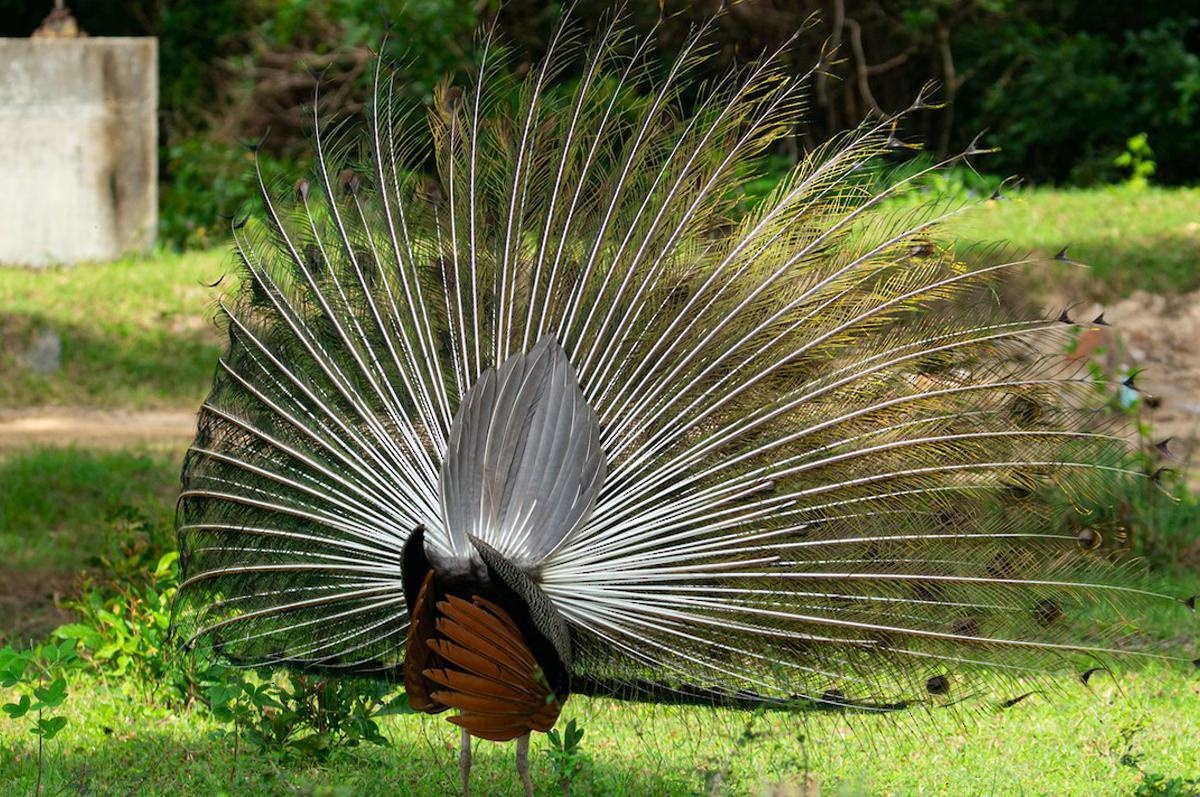peacock: (203, 128, 1141, 715)
